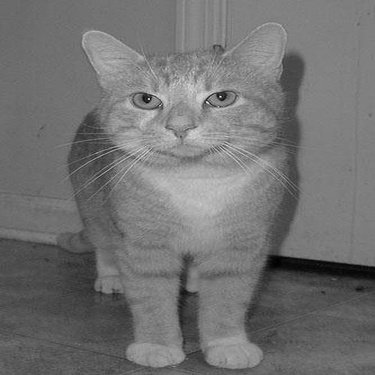cat: (58, 18, 291, 372)
